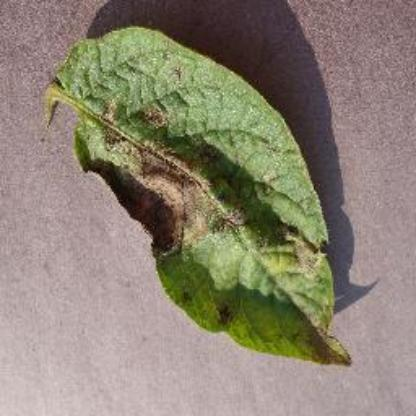Late-Blight: (41, 21, 357, 370)
